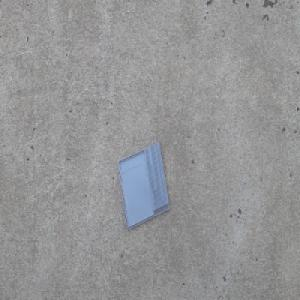PlasticPart: (116, 140, 170, 232)
